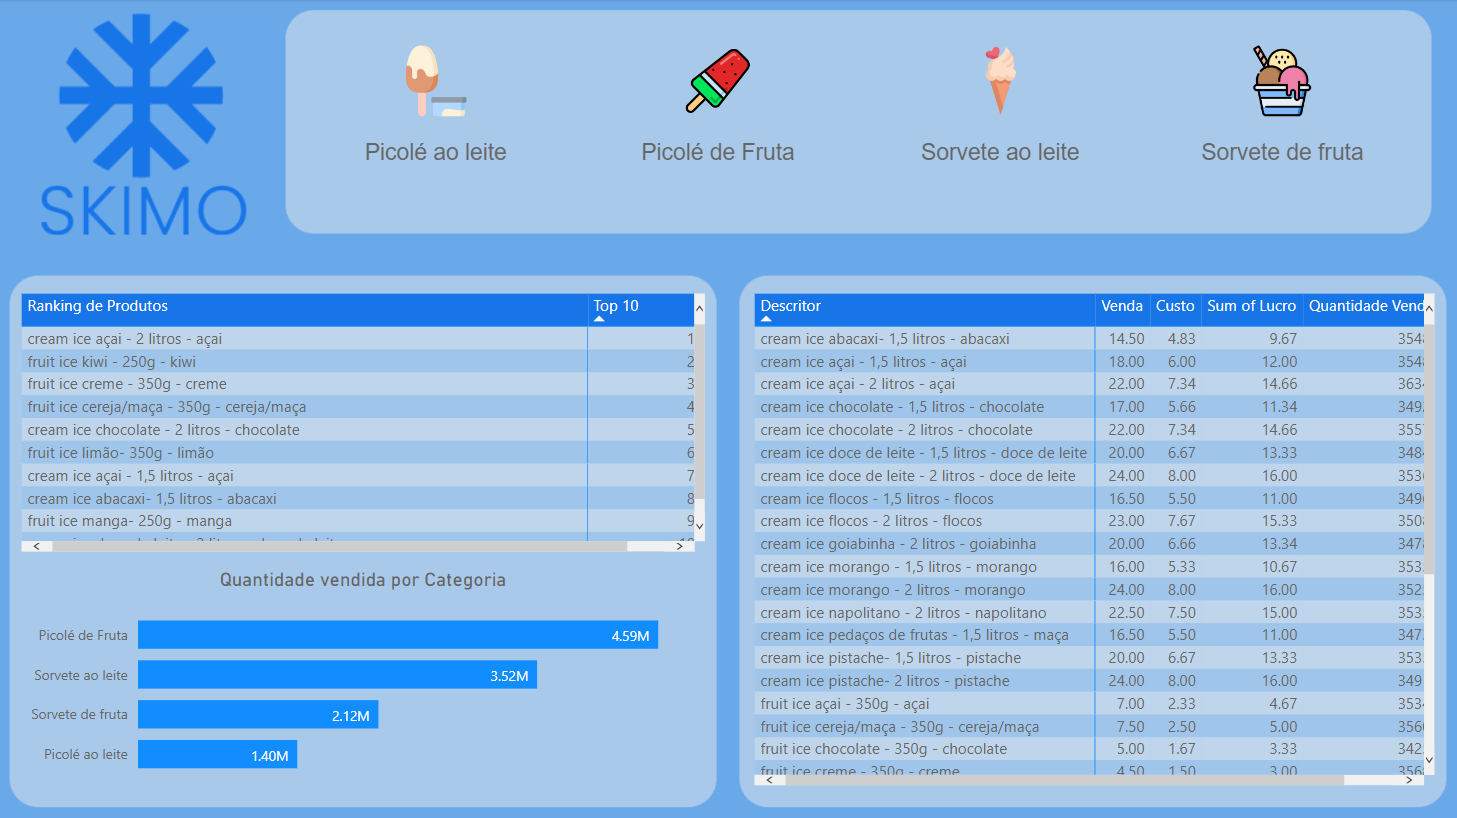

This screenshot's page, from the dashboard's own definition file:
{"tool":"powerbi","page":{"name":"Produtos","canvas":[1280,720],"ordinal":0},"visuals":[{"type":"clusteredBarChart","title":"Quantidade vendida por Categoria","fields":{"Y":["Sum(aluraskimo itens_pedido.Quantidade_Vendida)"],"Category":["aluraskimo categorias.Categoria"]},"box":[15.6,498.9,608.9,195.6],"z":0},{"type":"pivotTable","title":"Ranking De Produtos","fields":{"Values":["_Medidas.RankingProdutos"],"Rows":["aluraskimo produtos.Descritor"]},"box":[15.6,253.3,608.9,235.6],"z":1000},{"type":"ChicletSlicer1448559807354","fields":{"Category":["aluraskimo categorias.Categoria"],"Image":["Dim_Categorias.LinkIMG"]},"box":[255.6,30,1000,150],"z":2000},{"type":"pivotTable","title":"Quantidade vendida por Categoria","fields":{"Rows":["Dim_Produtos.Descritor"],"Values":["Sum(Dim_Produtos.PREÇO)","Sum(Dim_Produtos.CUSTO DO PRODUTO)","Sum(Dim_Produtos.Lucro)","Sum(Dim_itensPedidos.Quantidade_Vendida)"]},"box":[658.9,253.3,605.6,441.1],"z":3000}]}

Visuals, with their boxes in screenshot pixels (x1, y1, x2, y2), scaled from the page's 1280x720 canvas onto the 1457x818 screenshot:
"Quantidade vendida por Categoria" clusteredBarChart: 18,567,711,789
"Ranking De Produtos" pivotTable: 18,288,711,555
ChicletSlicer1448559807354 - aluraskimo categorias.Categoria x Dim_Categorias.LinkIMG: 291,34,1429,204
"Quantidade vendida por Categoria" pivotTable: 750,288,1439,789
